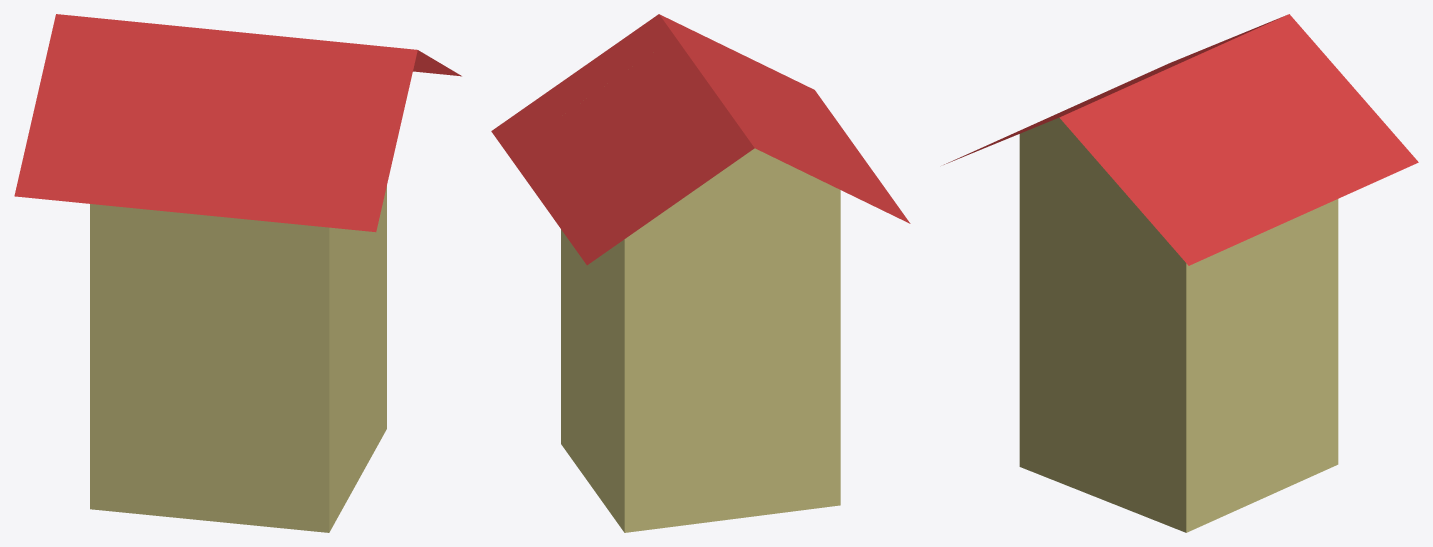
The picture shows the model from 3 angles, left to right: view 1: azimuth 30°, elevation 25°; view 2: azimuth 150°, elevation 25°; view 3: azimuth 270°, elevation 25°; orthographic projection. The views are drawn at different scales.
Bounding box in the file's own units: 8.42 × 8.43 × 7.71.
